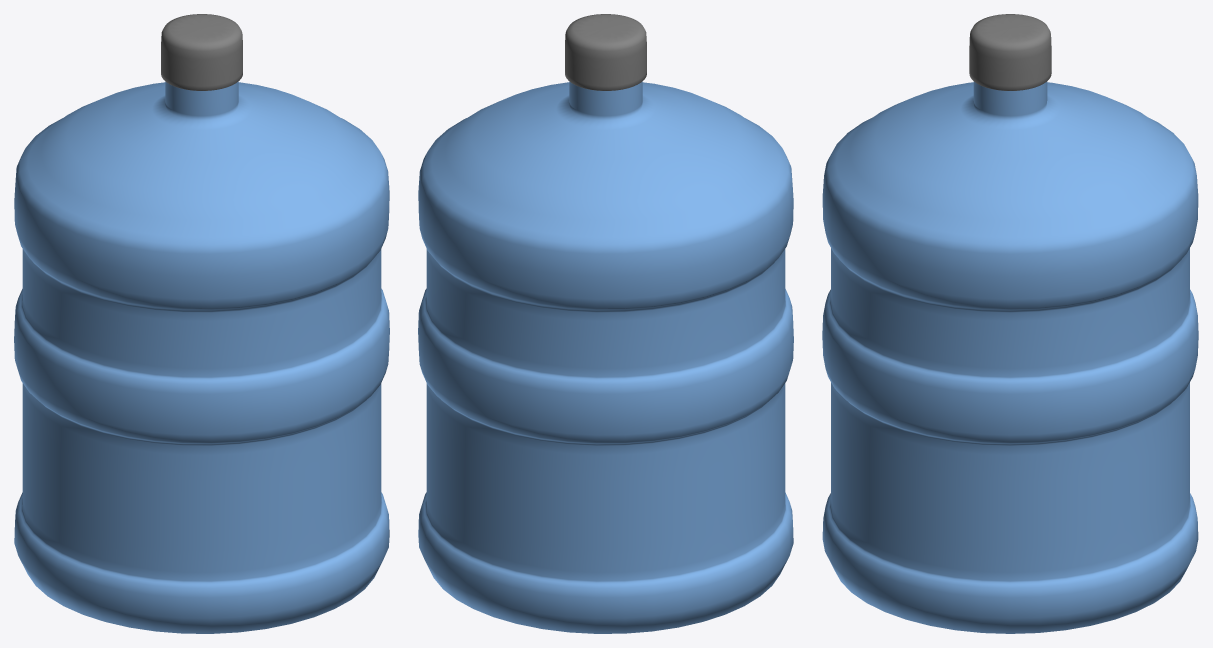
Rendered from WaterGallon.fbx.
3 renders of one model, left to right at view 1: azimuth 30°, elevation 25°; view 2: azimuth 150°, elevation 25°; view 3: azimuth 270°, elevation 25°, orthographic.
Parts seen in each view (by area): view 1: Water_Gallon Done; view 2: Water_Gallon Done; view 3: Water_Gallon Done.
Boxes of the visible parts, x1,y1,x2,y2 form: Water_Gallon Done: (14,14,389,633); Water_Gallon Done: (418,14,793,633); Water_Gallon Done: (822,14,1198,633).
Bounding box in the file's own units: 12.47 × 19.66 × 12.47.
